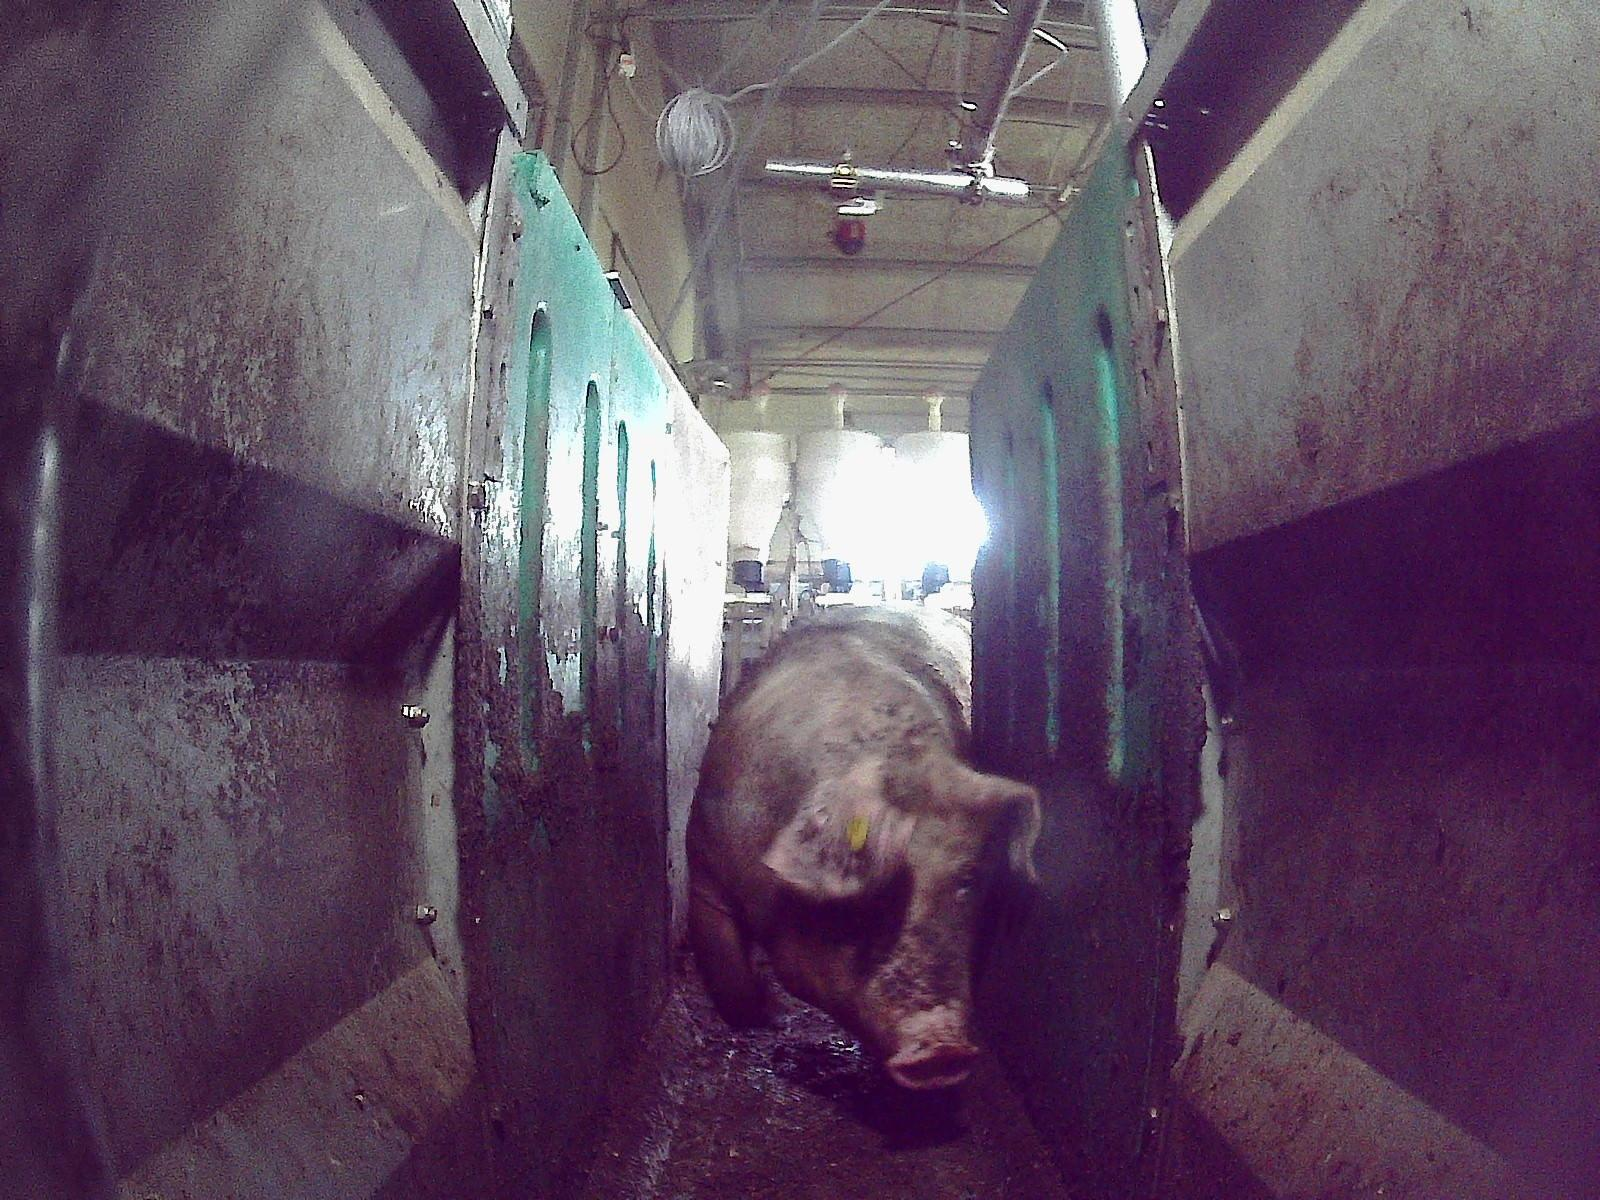Face: (770, 764, 990, 1087)
